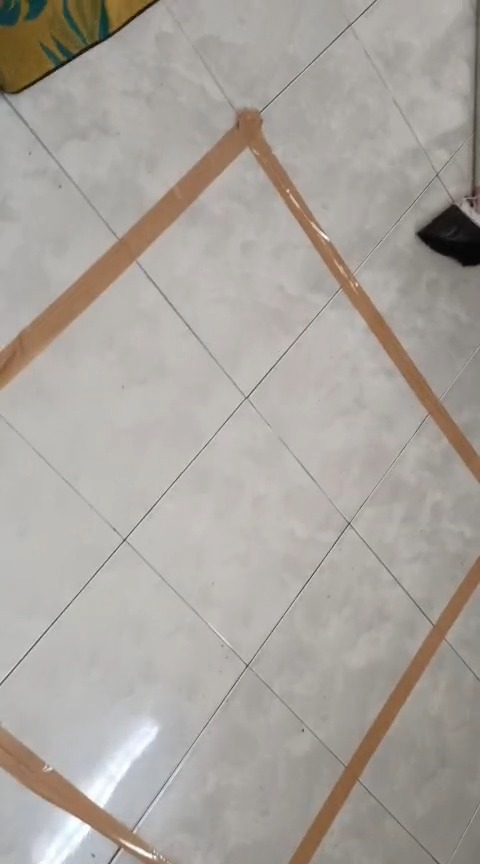floor marking: (0, 110, 479, 479), (289, 559, 479, 863), (0, 732, 163, 863)
